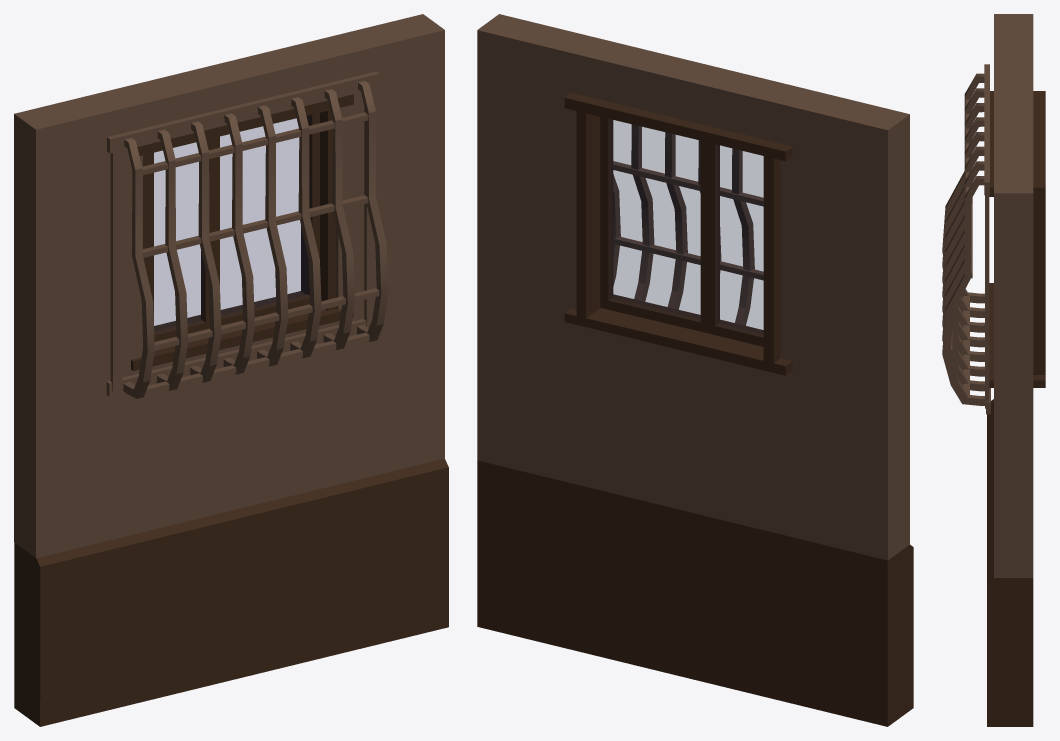
File: Lower_floor_type1.FBX
3 renders of one model, left to right at view 1: azimuth 30°, elevation 25°; view 2: azimuth 150°, elevation 25°; view 3: azimuth 270°, elevation 25°, orthographic. The views are drawn at different scales.
Parts seen in each view (by area): view 1: Hub_1st_floor_002; view 2: Hub_1st_floor_002; view 3: Hub_1st_floor_002.
Boxes of the visible parts, x1=… form: Hub_1st_floor_002: x1=14, y1=14, x2=448, y2=726; Hub_1st_floor_002: x1=477, y1=14, x2=913, y2=726; Hub_1st_floor_002: x1=942, y1=14, x2=1045, y2=726.
Size of the model in its own units: 280 by 68.19 by 389.
